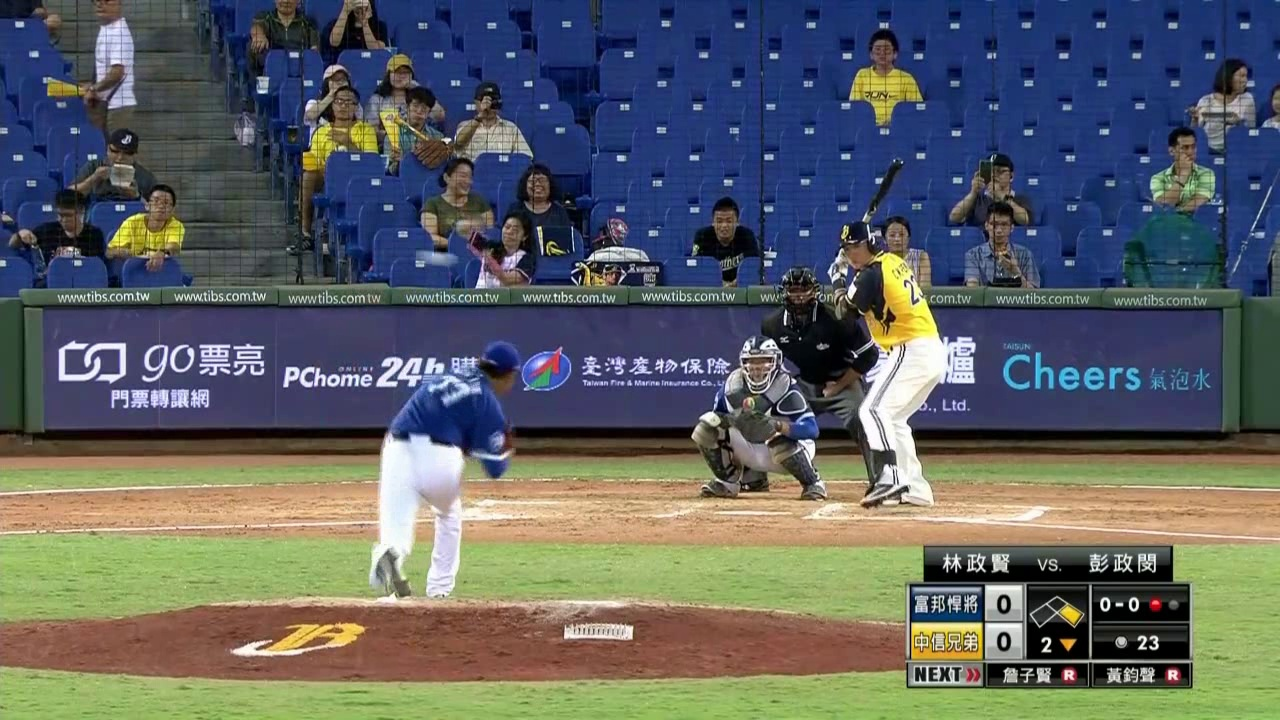ball: (427, 250, 446, 267)
base: (1028, 588, 1086, 628)
bat: (833, 151, 906, 270)
out: (1144, 588, 1184, 619)
score1: (986, 587, 1019, 616)
score2: (987, 624, 1019, 657)
session: (1028, 628, 1083, 658)
strikeball: (1094, 590, 1143, 620)
total: (1091, 627, 1188, 657)
